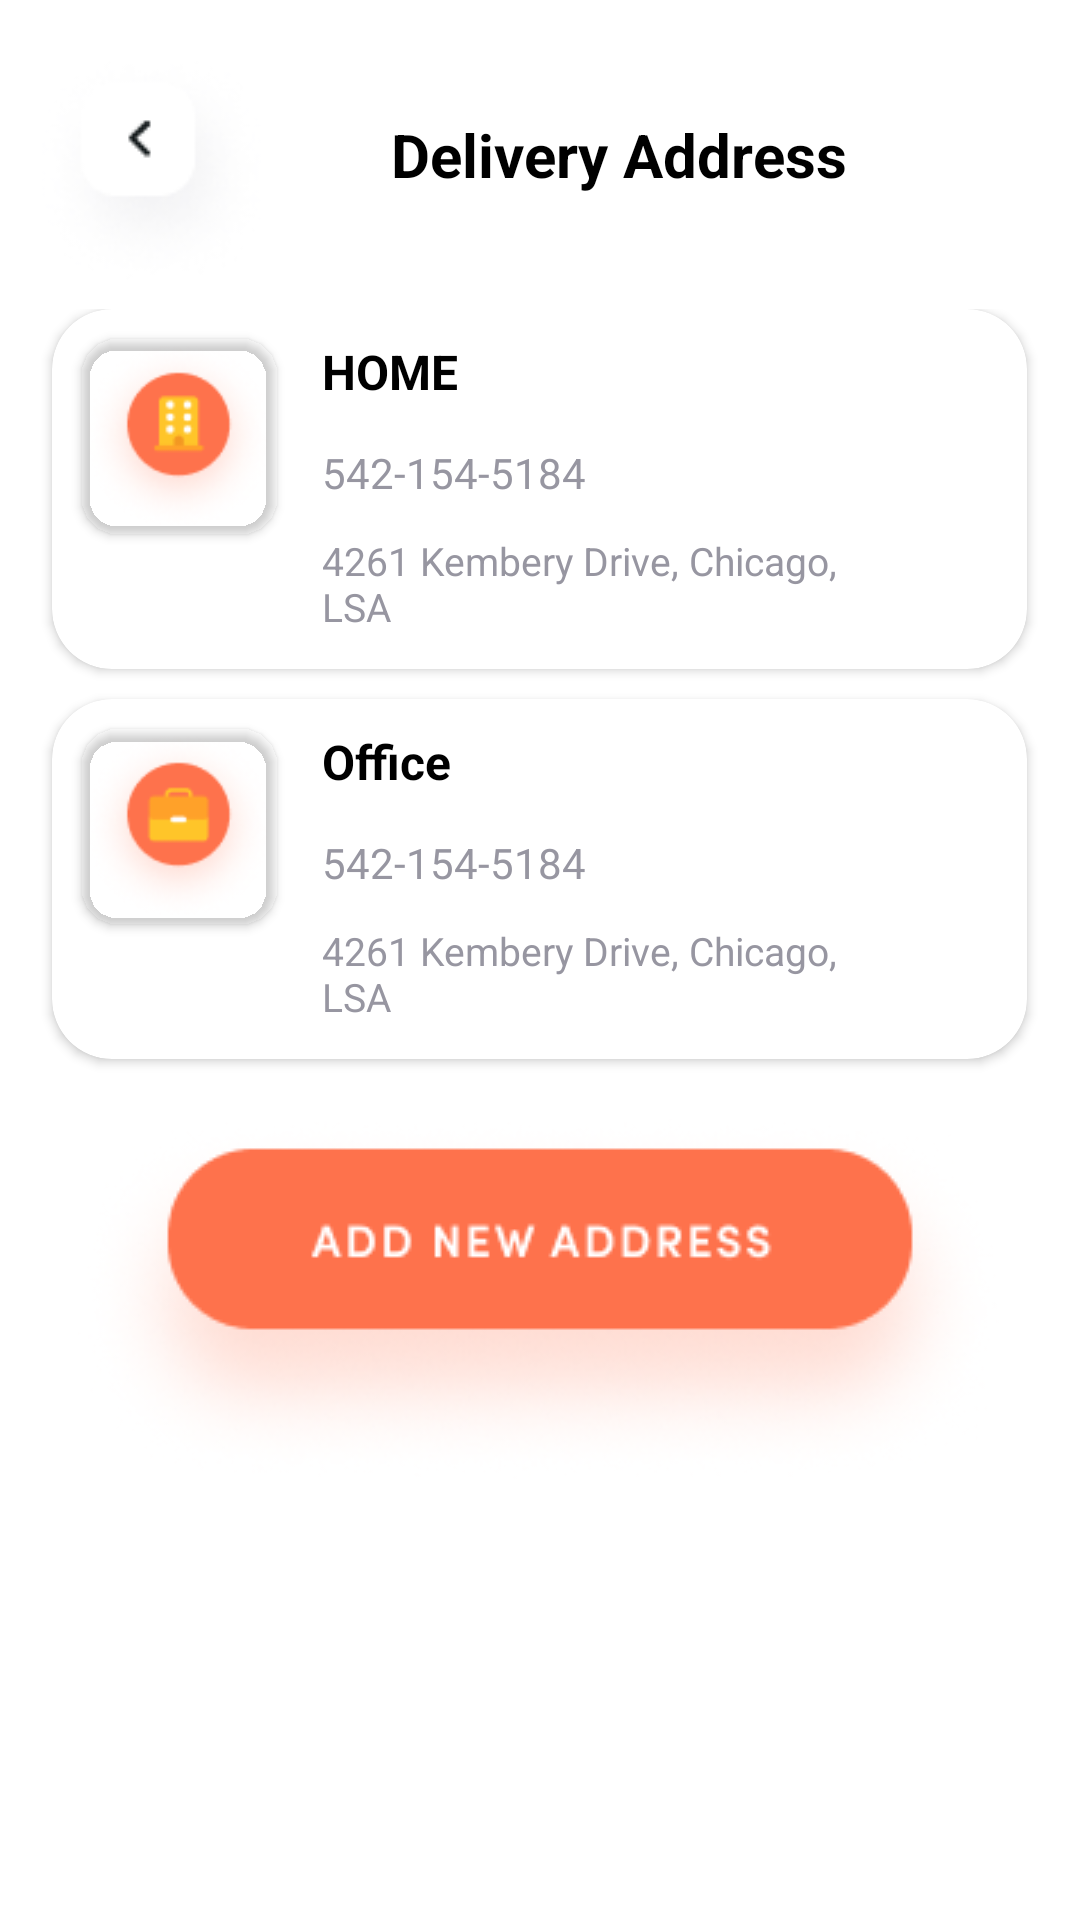

Icon click points for this 1080w x 1920h phone screenshot, format point (x, y):
backbtn: point (139, 139)
